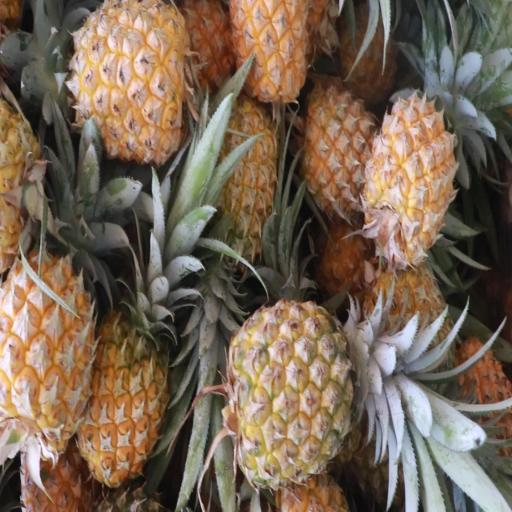------------------------------: (223, 295, 422, 486)
Pineapple - v8 v1: (76, 228, 174, 495), (44, 0, 187, 163), (346, 63, 452, 260), (0, 255, 82, 470), (192, 89, 276, 291), (298, 72, 373, 213)
